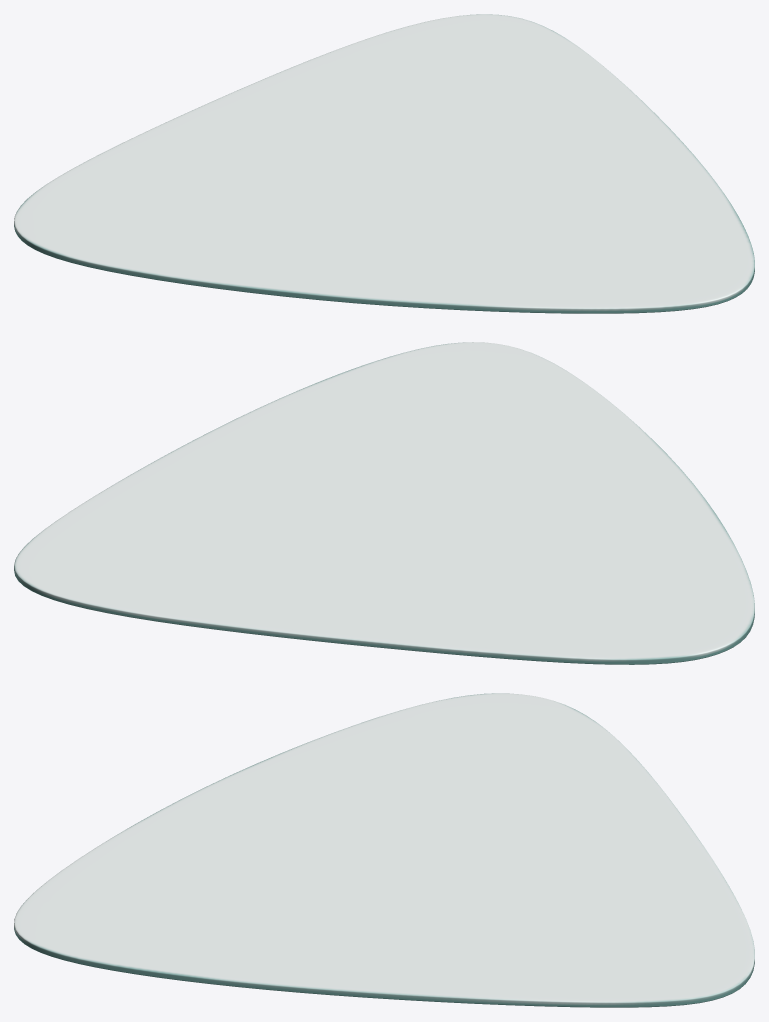
Rendered from glass.glb.
The picture shows the model from 3 angles, top to bottom: view 1: azimuth 30°, elevation 25°; view 2: azimuth 150°, elevation 25°; view 3: azimuth 270°, elevation 25°; orthographic projection. The views are drawn at different scales.
Visible parts, largest first — view 1: tampa; view 2: tampa; view 3: tampa.
Part boxes in pixels (x1,y1,x2,y2): tampa: [14, 14, 754, 313]; tampa: [14, 342, 754, 664]; tampa: [14, 693, 754, 1007].
Bounding box in the file's own units: 1.36 × 0.0129 × 1.38.
1 material, 1 textured.
